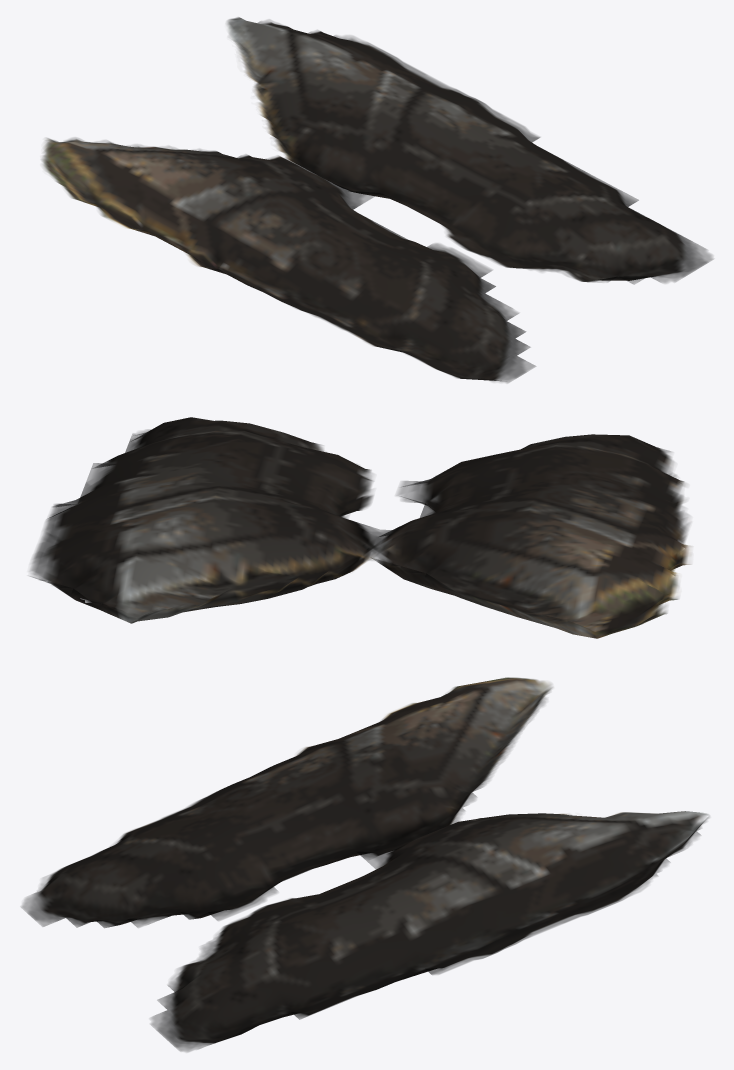
The model's file is drop_bracers.glb.
3 views of the same model, one above another, from view 1: azimuth 30°, elevation 25°; view 2: azimuth 150°, elevation 25°; view 3: azimuth 270°, elevation 25° (orthographic). The views are drawn at different scales.
Parts seen in each view (by area): view 1: drop_bracers; view 2: drop_bracers; view 3: drop_bracers.
Boxes of the visible parts, bbox=[...] form: drop_bracers: bbox=[41, 17, 713, 382]; drop_bracers: bbox=[30, 417, 690, 638]; drop_bracers: bbox=[21, 677, 709, 1051].
Size of the model in its own units: 0.5928 by 0.1349 by 0.638.
1 material, 1 textured.
